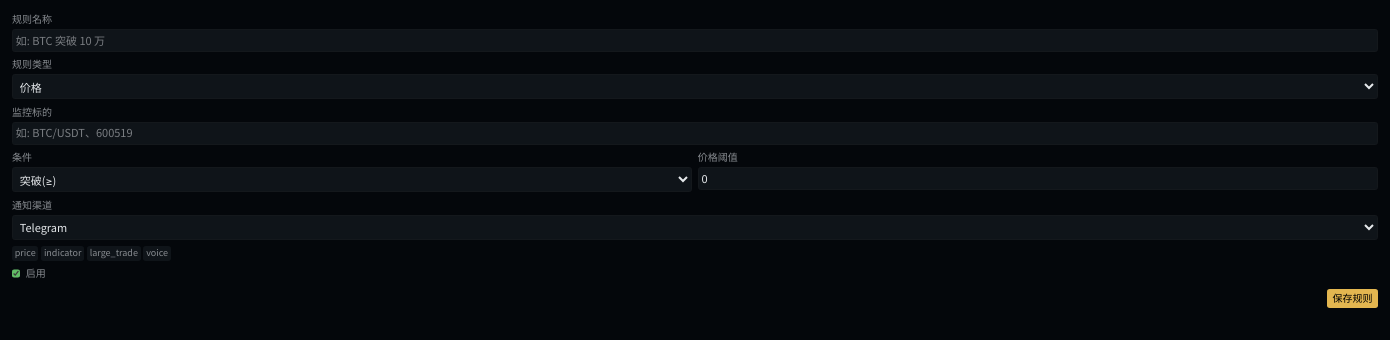
AlertRuleForm(预警规则表单) › price/indicator 没有标的 → 校验错误(没标的的阈值规则无法求值)
The width and height of the screenshot is (1390, 340).
In the field labelled "规则名称": (695, 40) [12,29,1378,52], type "无标的"
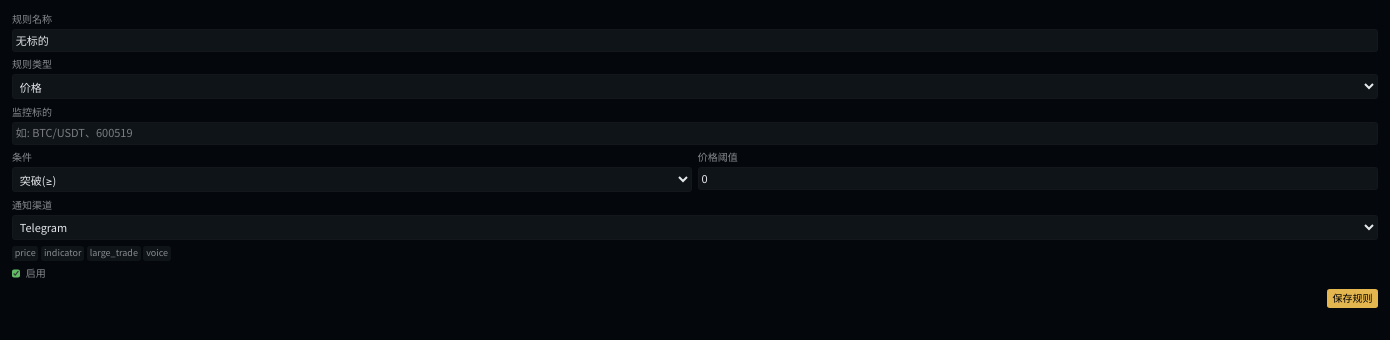
Replace the text in the number field labelled "价格阈值" with "100": (1038, 178) [698,167,1378,190]
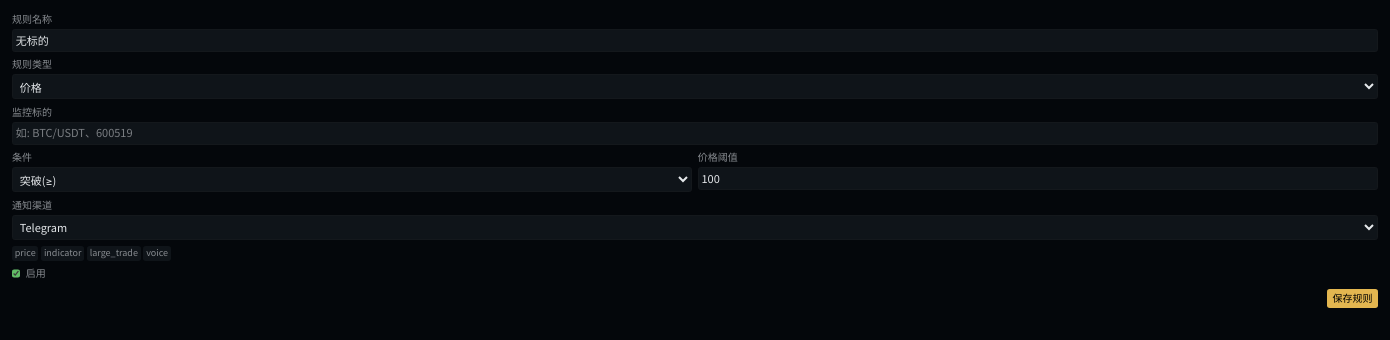
Click the button "保存规则": (1352, 298) [1327,289,1378,308]
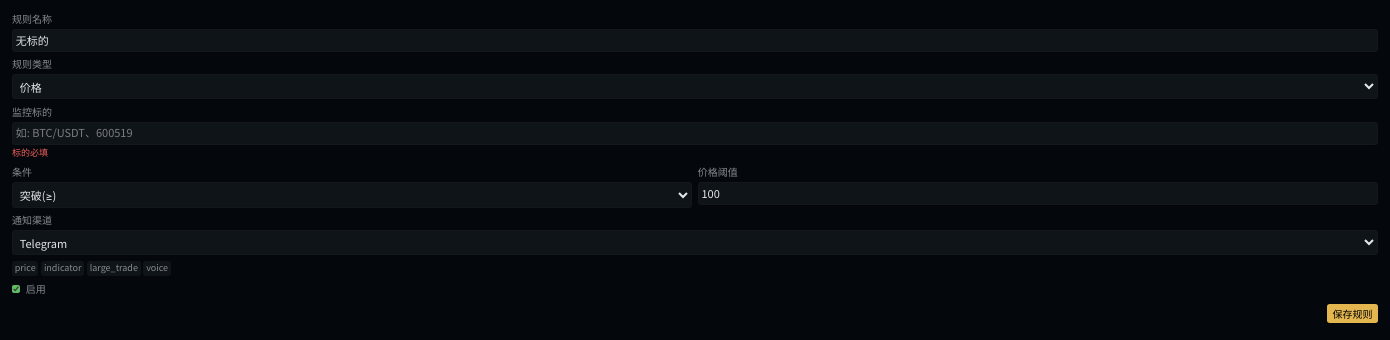
Now the text "标的必填" is shown, box [12,146,48,159]
